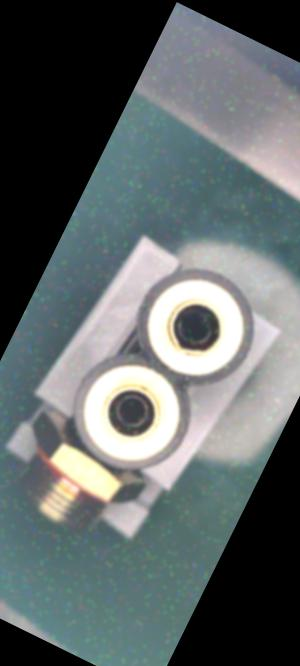bump: (168, 339, 196, 362)
off-centered: (170, 300, 225, 349)
